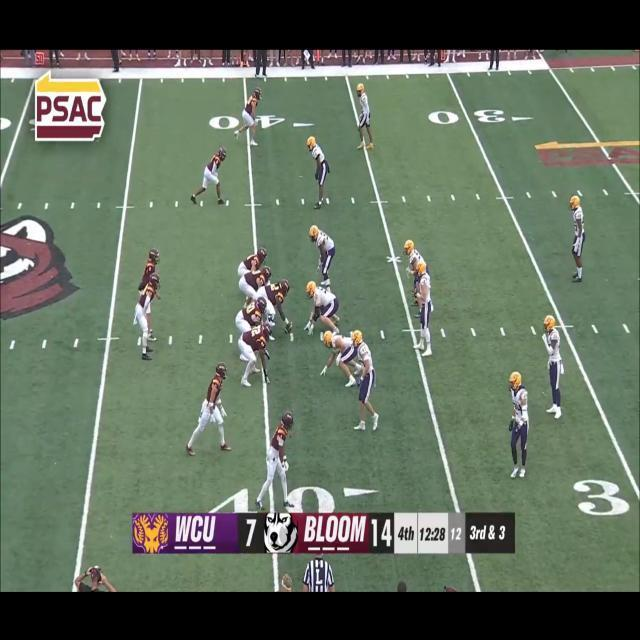football: (284, 319, 294, 338)
